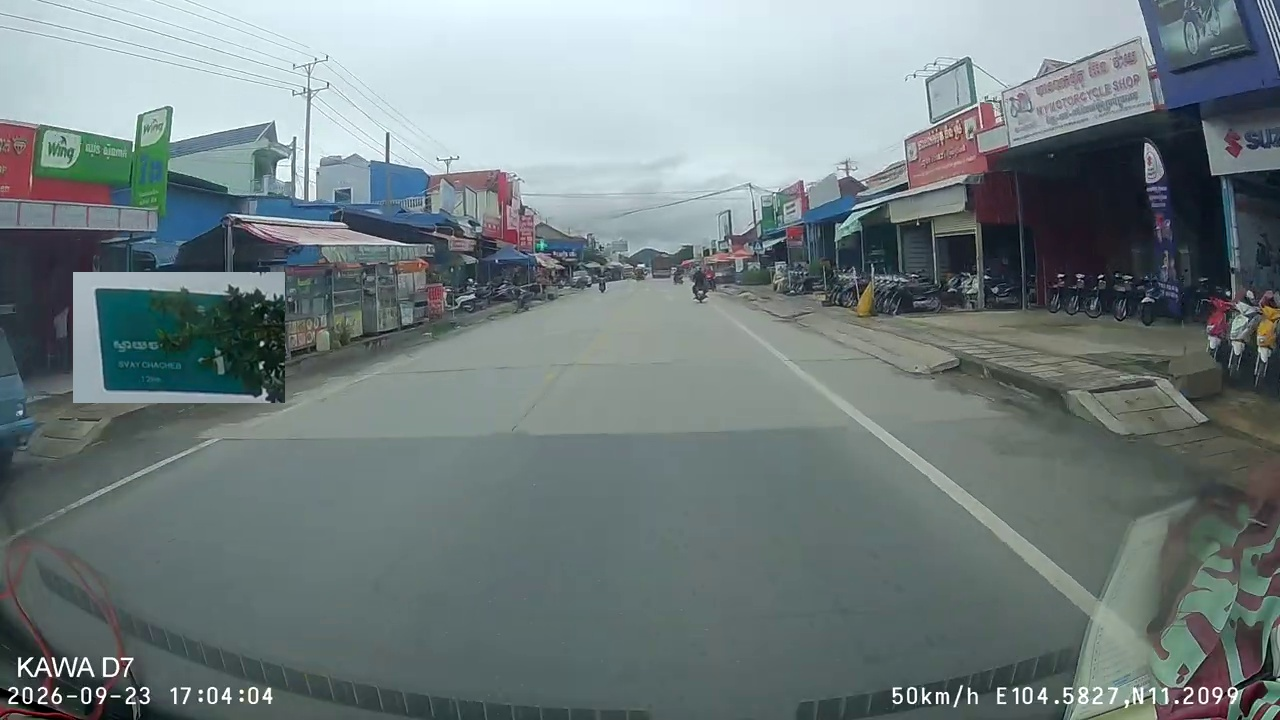direction_sign: (73, 272, 285, 403)
